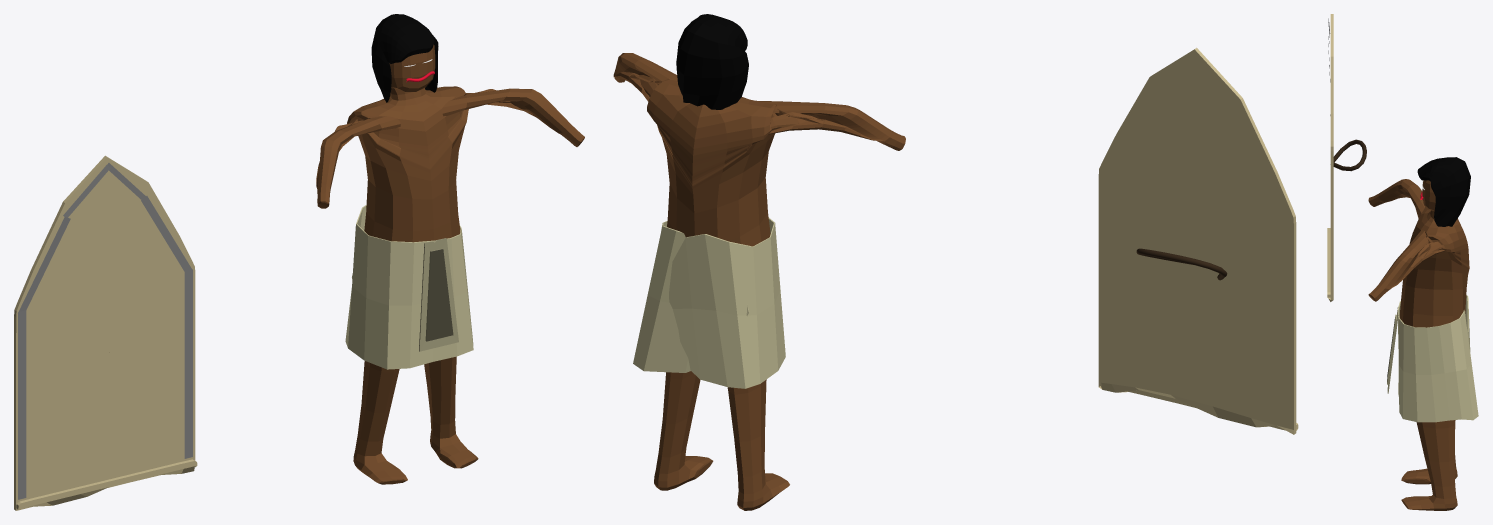
The model's file is postava_štít.fbx.
3 views of the same model, side by side, from view 1: azimuth 30°, elevation 25°; view 2: azimuth 150°, elevation 25°; view 3: azimuth 270°, elevation 25° (orthographic). The views are drawn at different scales.
Visible parts, largest first — view 1: Plane.003, Cube, Plane, Plane.001, Plane.002, Plane.004, Plane.005, Plane.006, Plane.007; view 2: Plane.003, Cube, Plane, Plane.002; view 3: Cube, Plane, Plane.002, Plane.003, BezierCurve, Plane.001.
Boxes of the visible parts, box(x1,y1,x2,y2) form: Plane.003: box(14, 155, 197, 510); Cube: box(316, 44, 584, 484); Plane: box(345, 205, 473, 369); Plane.001: box(419, 238, 458, 351); Plane.002: box(371, 14, 438, 102); Plane.004: box(184, 269, 192, 458); Plane.005: box(18, 310, 26, 499); Plane.006: box(18, 217, 70, 311); Plane.007: box(141, 196, 191, 271); Plane.003: box(1098, 48, 1298, 434); Cube: box(613, 53, 905, 510); Plane: box(633, 217, 785, 388); Plane.002: box(676, 14, 748, 109); Cube: box(1368, 179, 1469, 510); Plane: box(1397, 295, 1478, 422); Plane.002: box(1417, 157, 1470, 226); Plane.003: box(1327, 14, 1333, 301); BezierCurve: box(1333, 139, 1366, 171); Plane.001: box(1387, 307, 1398, 393).
Bounding box in the file's own units: 486 × 349 × 140.
